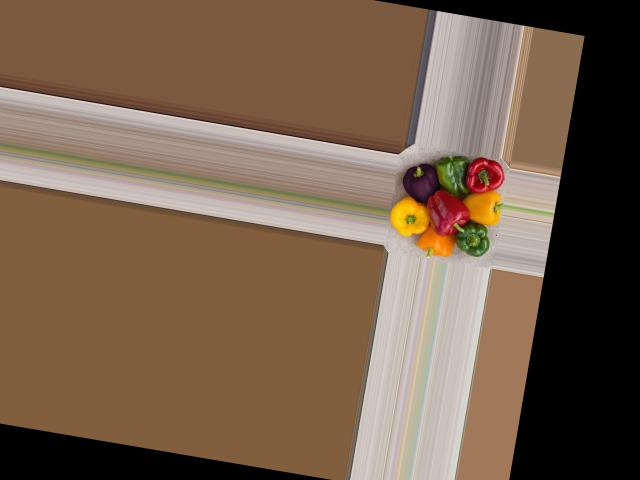bell_pepper: (400, 150, 451, 207)
